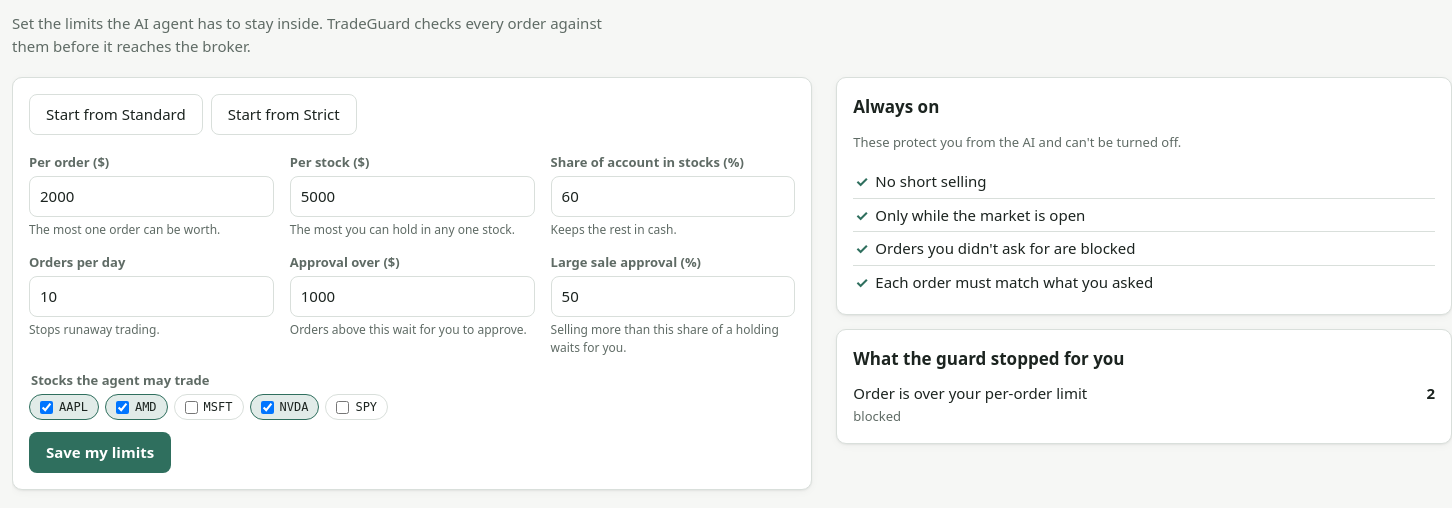
it: LimitsPage › fills the form from a profile template
expect the number field labelled "Per order ($)" is shown: met, box [29,176,274,216]
Click the button "Start from Strict".
click(284, 114)  # box [211,94,357,134]
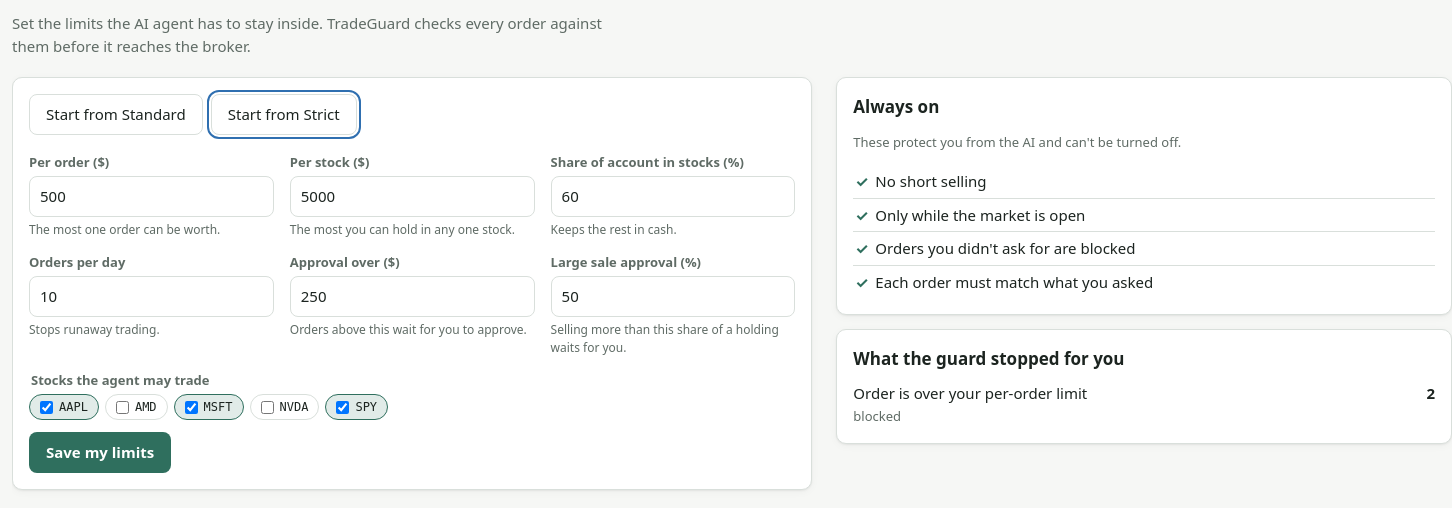
expect the number field labelled "Per order ($)" holds "500": met, box [29,176,274,216]
expect the checkbox labelled "NVDA" is not checked: met, box [260,400,274,414]
